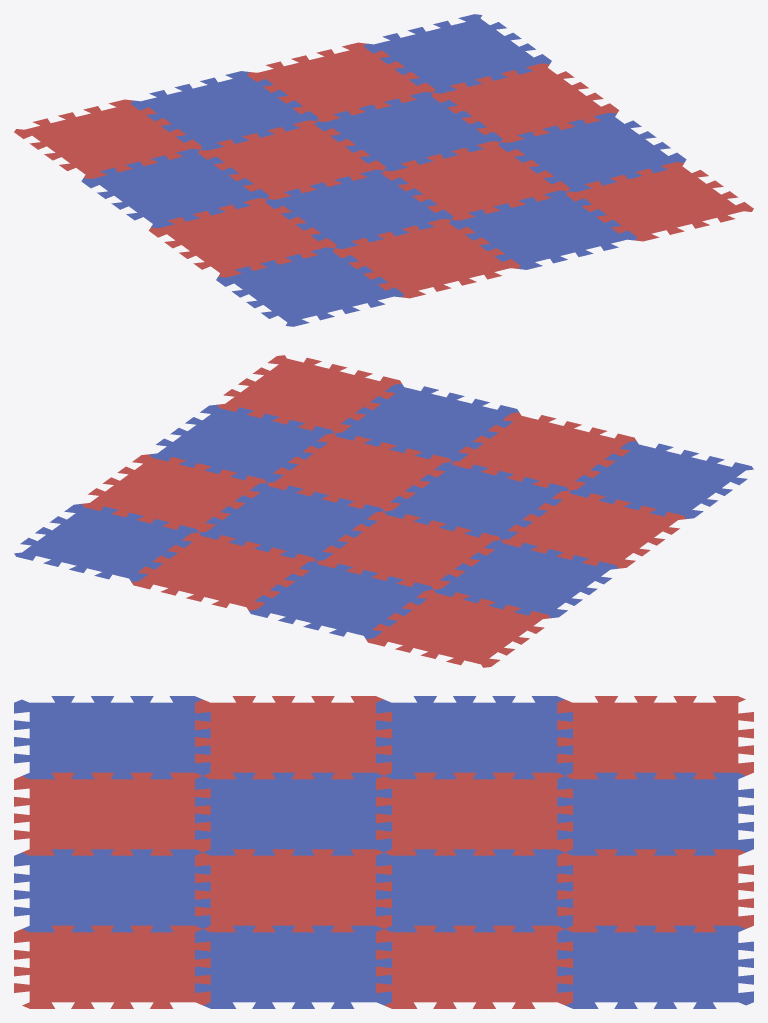
The model's file is puzzle_mat.fbx.
3 renders of one model, top to bottom at view 1: azimuth 30°, elevation 25°; view 2: azimuth 150°, elevation 25°; view 3: azimuth 270°, elevation 25°, orthographic. The views are drawn at different scales.
Parts seen in each view (by area): view 1: pasted__pasted__pPlane5, pasted__pasted__pPlane12, pasted__pasted__pPlane4, pasted__pasted__pPlane14, pasted__pasted__pPlane2, pasted__pasted__pPlane8, pasted__pasted__pPlane9, pasted__pasted__pPlane13, pasted__pasted__pPlane1, pasted__pasted__pPlane7, pasted__pasted__pPlane10, pasted__pasted__pPlane15 (+4 smaller); view 2: pasted__pasted__pPlane2, pasted__pasted__pPlane3, pasted__pasted__pPlane13, pasted__pasted__pPlane16, pasted__pasted__pPlane4, pasted__pasted__pPlane14, pasted__pasted__pPlane7, pasted__pasted__pPlane10, pasted__pasted__pPlane6, pasted__pasted__pPlane11, pasted__pasted__pPlane1, pasted__pasted__pPlane8 (+4 smaller); view 3: pasted__pasted__pPlane3, pasted__pasted__pPlane16, pasted__pasted__pPlane7, pasted__pasted__pPlane10, pasted__pasted__pPlane1, pasted__pasted__pPlane8, pasted__pasted__pPlane9, pasted__pasted__pPlane15, pasted__pasted__pPlane4, pasted__pasted__pPlane14, pasted__pasted__pPlane2, pasted__pasted__pPlane5 (+4 smaller).
Part boxes in pixels (x1,y1,x2,y2): pasted__pasted__pPlane5: (566, 162, 753, 241); pasted__pasted__pPlane12: (14, 99, 201, 178); pasted__pasted__pPlane4: (265, 169, 453, 248); pasted__pasted__pPlane14: (314, 92, 502, 171); pasted__pasted__pPlane2: (333, 219, 520, 298); pasted__pasted__pPlane8: (382, 141, 569, 220); pasted__pasted__pPlane9: (198, 120, 385, 199); pasted__pasted__pPlane13: (247, 42, 434, 121); pasted__pasted__pPlane1: (216, 247, 403, 326); pasted__pasted__pPlane7: (498, 112, 686, 192); pasted__pasted__pPlane10: (81, 148, 269, 228); pasted__pasted__pPlane15: (364, 14, 551, 93); pasted__pasted__pPlane2: (452, 412, 636, 490); pasted__pasted__pPlane3: (501, 490, 685, 568); pasted__pasted__pPlane13: (131, 532, 315, 610); pasted__pasted__pPlane16: (82, 454, 266, 532); pasted__pasted__pPlane4: (384, 462, 568, 539); pasted__pasted__pPlane14: (199, 483, 383, 560); pasted__pasted__pPlane7: (149, 404, 333, 482); pasted__pasted__pPlane10: (434, 540, 618, 618); pasted__pasted__pPlane6: (334, 383, 518, 461); pasted__pasted__pPlane11: (249, 561, 433, 639); pasted__pasted__pPlane1: (569, 441, 753, 518); pasted__pasted__pPlane8: (267, 433, 451, 511); pasted__pasted__pPlane3: (195, 696, 391, 779); pasted__pasted__pPlane16: (376, 925, 572, 1008); pasted__pasted__pPlane7: (195, 925, 391, 1008); pasted__pasted__pPlane10: (376, 696, 572, 779); pasted__pasted__pPlane1: (14, 696, 210, 779); pasted__pasted__pPlane8: (195, 849, 391, 932); pasted__pasted__pPlane9: (376, 772, 572, 855); pasted__pasted__pPlane15: (557, 925, 753, 1008); pasted__pasted__pPlane4: (195, 772, 391, 855); pasted__pasted__pPlane14: (376, 849, 572, 932); pasted__pasted__pPlane2: (14, 772, 210, 855); pasted__pasted__pPlane5: (14, 925, 210, 1008).
Bounding box in the file's own units: 188 × 0 × 188.
